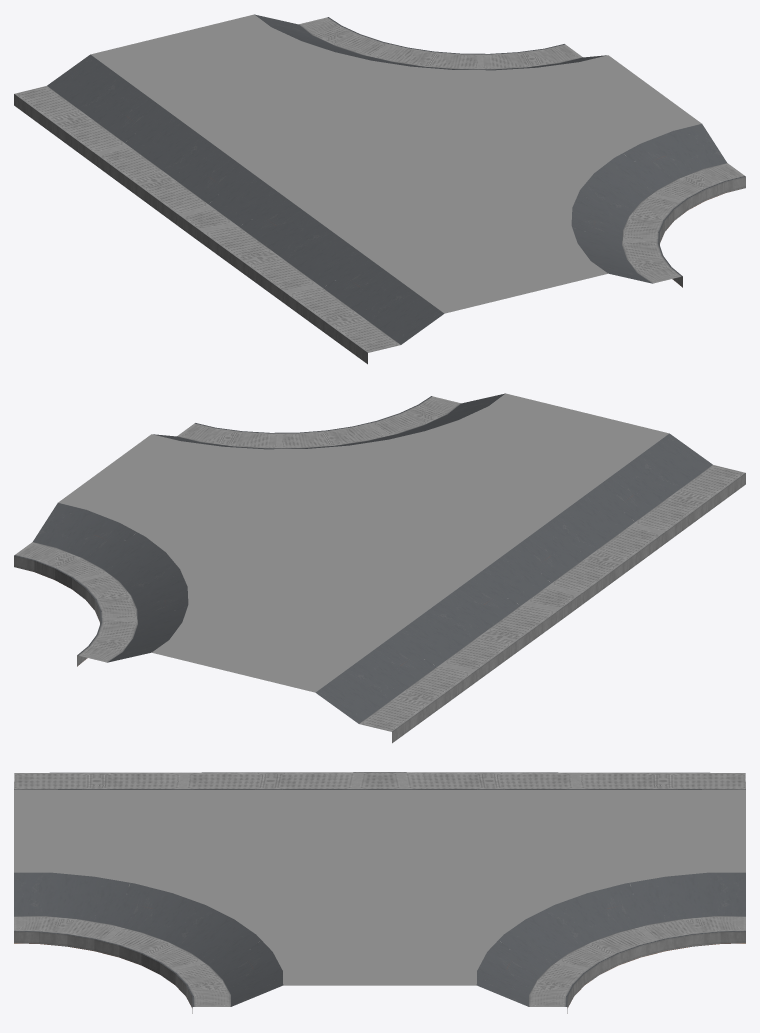
Rendered from roof_t.FBX.
The picture shows the model from 3 angles, top to bottom: view 1: azimuth 30°, elevation 25°; view 2: azimuth 150°, elevation 25°; view 3: azimuth 270°, elevation 25°; orthographic projection. The views are drawn at different scales.
Visible parts, largest first — view 1: Plane007; view 2: Plane007; view 3: Plane007.
Boxes of the visible parts, left/top/right/bottom form: Plane007: left=14, top=14, right=745, bottom=364; Plane007: left=14, top=393, right=745, bottom=743; Plane007: left=14, top=772, right=745, bottom=1013.
Bounding box in the file's own units: 591 × 39.18 × 780.
2 materials, 1 textured.
